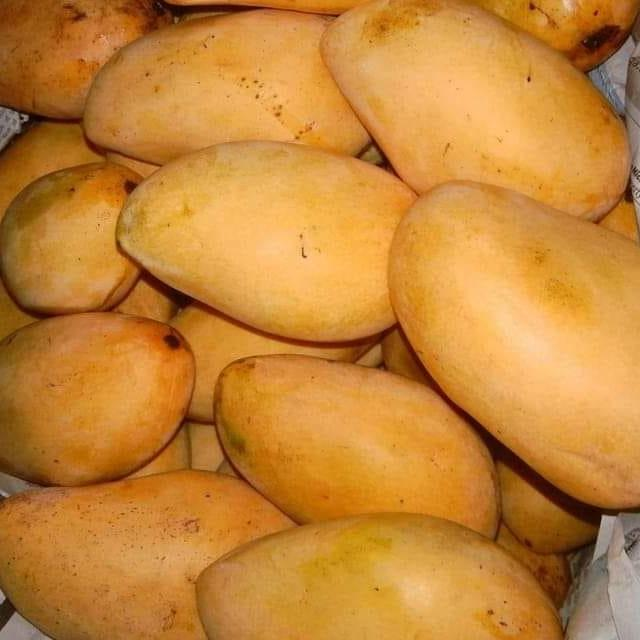mango: (386, 182, 640, 527), (324, 0, 630, 228), (125, 155, 411, 347), (215, 355, 502, 541), (0, 469, 298, 640), (192, 513, 565, 640), (84, 14, 365, 172), (0, 314, 190, 495), (0, 150, 138, 319)
